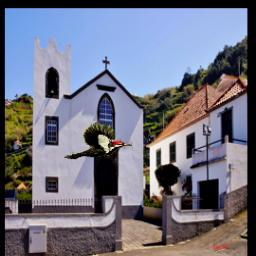Woodpecker: (64, 122, 133, 159)
